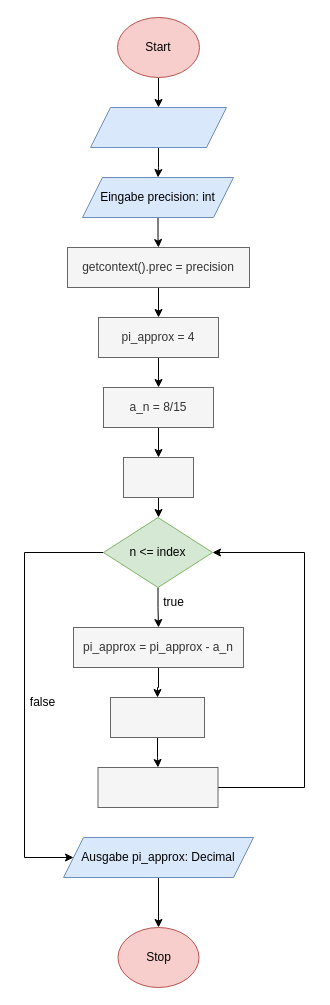
This 330x1005 diagram has some shape labels left out. Here are the shapes that lost their labels. From the top down, the centre of each, then its label:
At [158,127]: "Eingabe index: int".
At [158,477]: "n = 1".
At [157,717]: "n = n + 1".
At [157,787]: "a_n = 8/(16k² - 1)".
